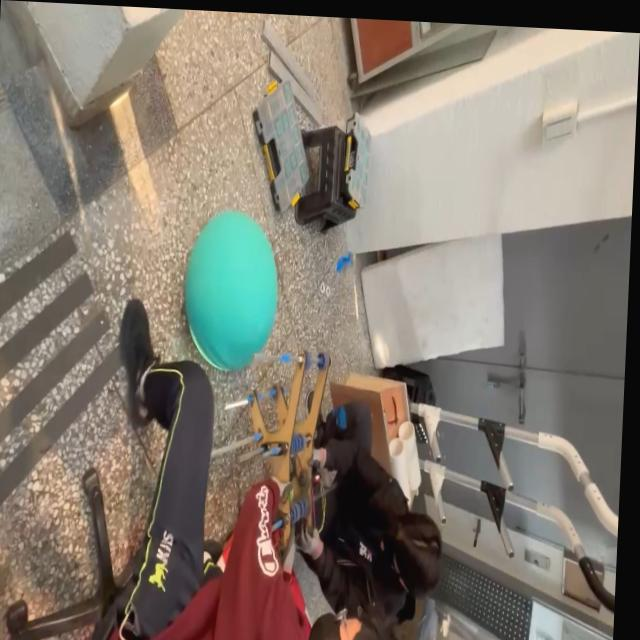ALGAE: (179, 205, 282, 376)
